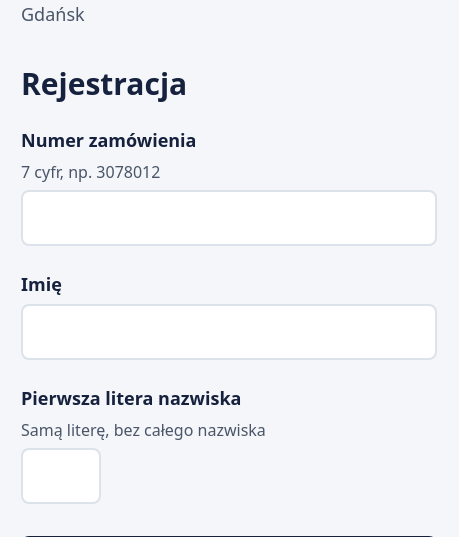
Scenario: App › osoba spoza listy: bez ksywy i typu biletu na ekranie (T9)
Type "3023 567" into the field labelled "Numer zamówienia" at (229, 218), box x1=21 y1=190 x2=437 y2=246
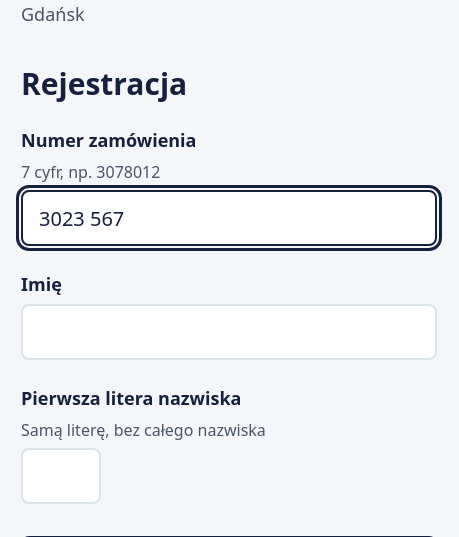
Type " Jasmina " into the field labelled "Imię" at (229, 332), box x1=21 y1=304 x2=437 y2=360
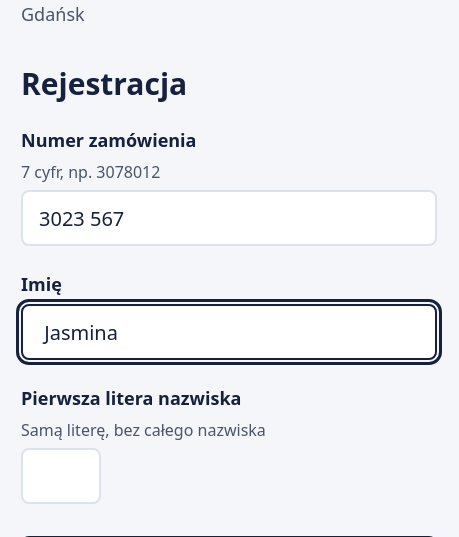
Type "k" into the field labelled "Pierwsza litera nazwiska" at (61, 476), box x1=21 y1=448 x2=101 y2=504
(page scrolled)
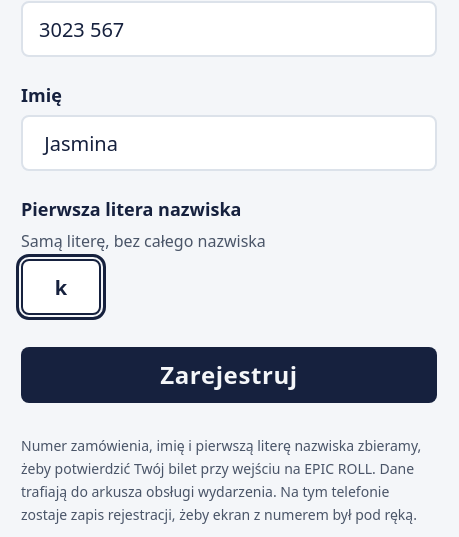
Click the button "Zarejestruj" at (229, 375), box x1=21 y1=347 x2=437 y2=403
(page scrolled)
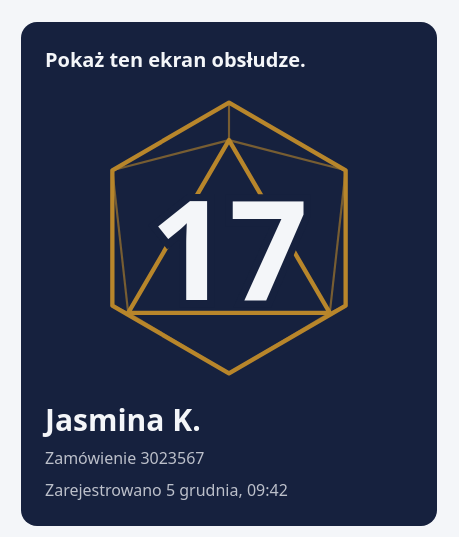
Now the picture with test id "registration-id" reads "17", box x1=150 y1=152 x2=308 y2=341
